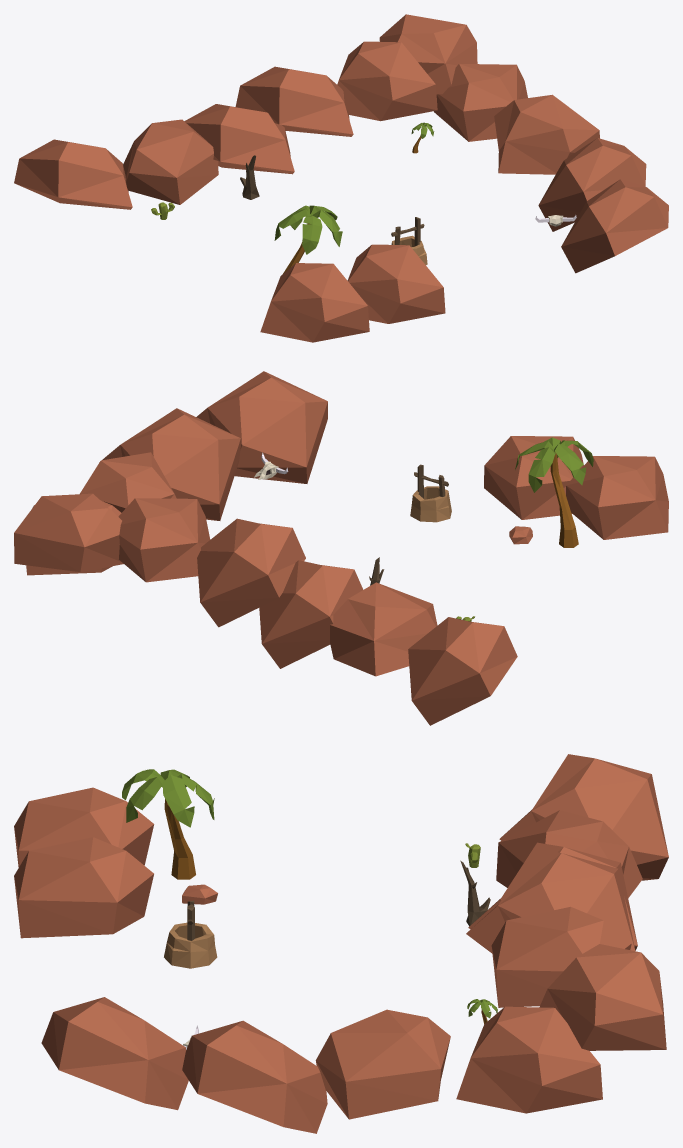
The model's file is Obstracle3.fbx.
3 views of the same model, one above another, from view 1: azimuth 30°, elevation 25°; view 2: azimuth 150°, elevation 25°; view 3: azimuth 270°, elevation 25° (orthographic). The views are drawn at different scales.
Visible parts, largest first — view 1: Flat_Rock_01__17_, Flat_Rock_01__5_, Flat_Rock_01__18_, Flat_Rock_01__10_, Flat_Rock_01__7_, Flat_Rock_01__3_, Flat_Rock_01__16_, Flat_Rock_01__4_, Flat_Rock_01__6_, Flat_Rock_01__13_, Flat_Rock_01__9_, Flat_Rock_01__15_ (+2 smaller); view 2: Flat_Rock_01__10_, Flat_Rock_01__7_, Flat_Rock_01__4_, Flat_Rock_01__9_, Flat_Rock_01__17_, Flat_Rock_01__15_, Flat_Rock_01__3_, Flat_Rock_01__6_, Flat_Rock_01__18_, Flat_Rock_01__16_, Flat_Rock_01__5_, Mixed_Palm_tree_01 (+2 smaller); view 3: Flat_Rock_01__13_, Flat_Rock_01__16_, Flat_Rock_01__5_, Flat_Rock_01__9_, Flat_Rock_01__10_, Flat_Rock_01__15_, Flat_Rock_01__7_, Flat_Rock_01__18_, Flat_Rock_01__4_, Flat_Rock_01__17_, Flat_Rock_01__3_, Mixed_Palm_tree_01 (+4 smaller).
Part boxes in pixels (box(x1,y1,x2,y2)): Flat_Rock_01__17_: box(260, 263, 369, 342); Flat_Rock_01__5_: box(494, 94, 599, 174); Flat_Rock_01__18_: box(337, 41, 437, 121); Flat_Rock_01__10_: box(561, 179, 668, 273); Flat_Rock_01__7_: box(14, 139, 132, 209); Flat_Rock_01__3_: box(123, 119, 218, 204); Flat_Rock_01__16_: box(347, 244, 445, 323); Flat_Rock_01__4_: box(235, 66, 353, 136); Flat_Rock_01__6_: box(184, 104, 294, 174); Flat_Rock_01__13_: box(434, 64, 527, 141); Flat_Rock_01__9_: box(538, 138, 646, 231); Flat_Rock_01__15_: box(379, 14, 477, 94); Flat_Rock_01__10_: box(196, 371, 327, 483); Flat_Rock_01__7_: box(408, 617, 517, 725); Flat_Rock_01__4_: box(197, 518, 305, 627); Flat_Rock_01__9_: box(102, 408, 240, 520); Flat_Rock_01__17_: box(566, 456, 668, 539); Flat_Rock_01__15_: box(14, 493, 123, 571); Flat_Rock_01__3_: box(330, 582, 437, 676); Flat_Rock_01__6_: box(259, 560, 363, 668); Flat_Rock_01__18_: box(118, 498, 210, 582); Flat_Rock_01__16_: box(484, 436, 583, 519); Flat_Rock_01__5_: box(80, 452, 176, 512); Mixed_Palm_tree_01: box(515, 437, 593, 547); Flat_Rock_01__13_: box(456, 1006, 602, 1113); Flat_Rock_01__16_: box(14, 837, 153, 938); Flat_Rock_01__5_: box(315, 1009, 450, 1119); Flat_Rock_01__9_: box(182, 1020, 327, 1133); Flat_Rock_01__10_: box(41, 997, 188, 1110); Flat_Rock_01__15_: box(539, 944, 666, 1050); Flat_Rock_01__7_: box(499, 754, 668, 880); Flat_Rock_01__18_: box(491, 906, 631, 1007); Flat_Rock_01__4_: box(466, 848, 635, 953); Flat_Rock_01__17_: box(14, 787, 154, 867); Flat_Rock_01__3_: box(496, 810, 642, 898); Mixed_Palm_tree_01: box(122, 769, 214, 879).
Bounding box in the file's own units: 13391 × 3009 × 11387.
Materials: 1 (1 with a texture image).
